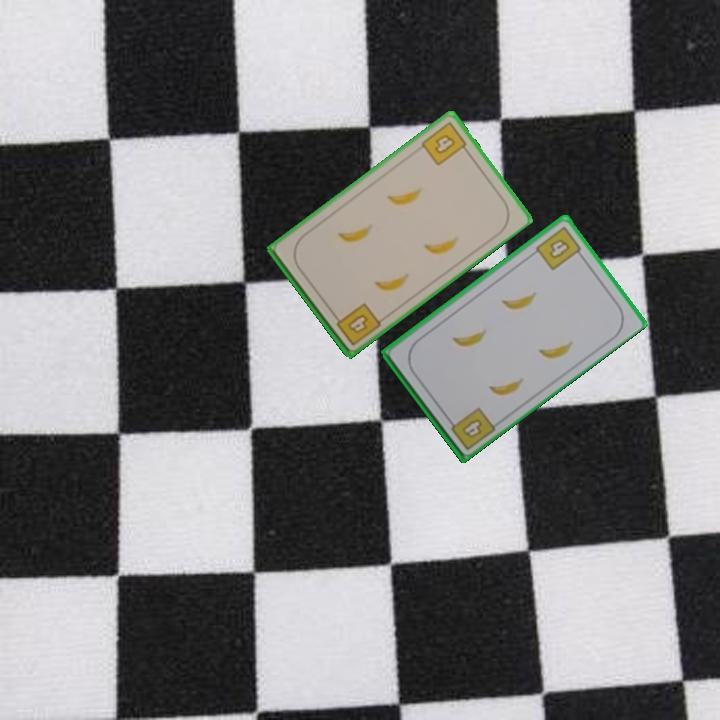4b: (532, 222, 586, 273), (417, 118, 472, 168), (443, 404, 498, 453), (329, 299, 384, 348)
